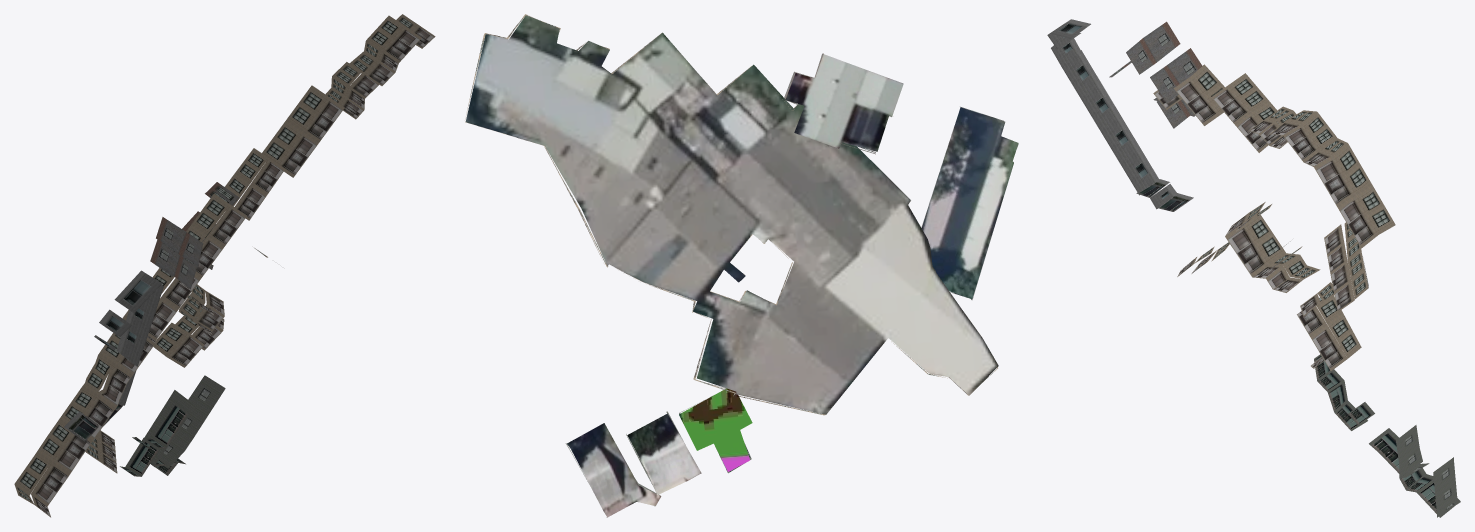
The model's file is tile_LOD4_r15_c3.glb.
3 renders of one model, left to right at view 1: azimuth 30°, elevation 25°; view 2: azimuth 150°, elevation 25°; view 3: azimuth 270°, elevation 25°, orthographic. The views are drawn at different scales.
Bounding box in the file's own units: 85.75 × 77.5 × 60.5.
Materials: 18 (18 with a texture image).
